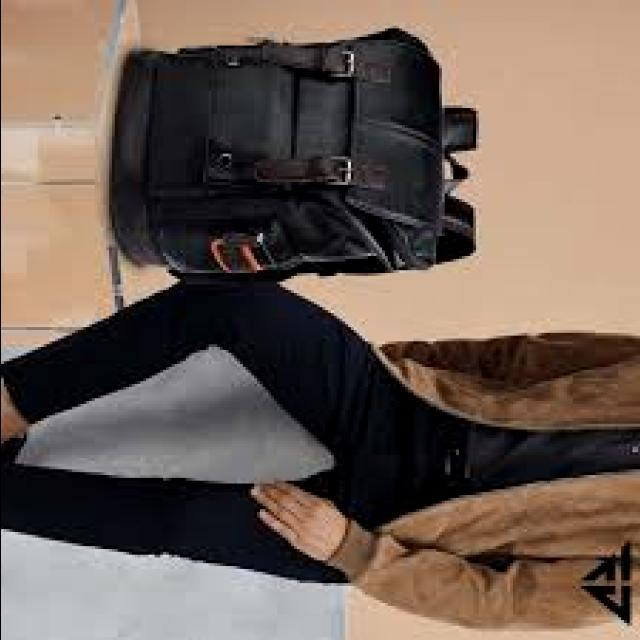backpack: (112, 27, 482, 283)
